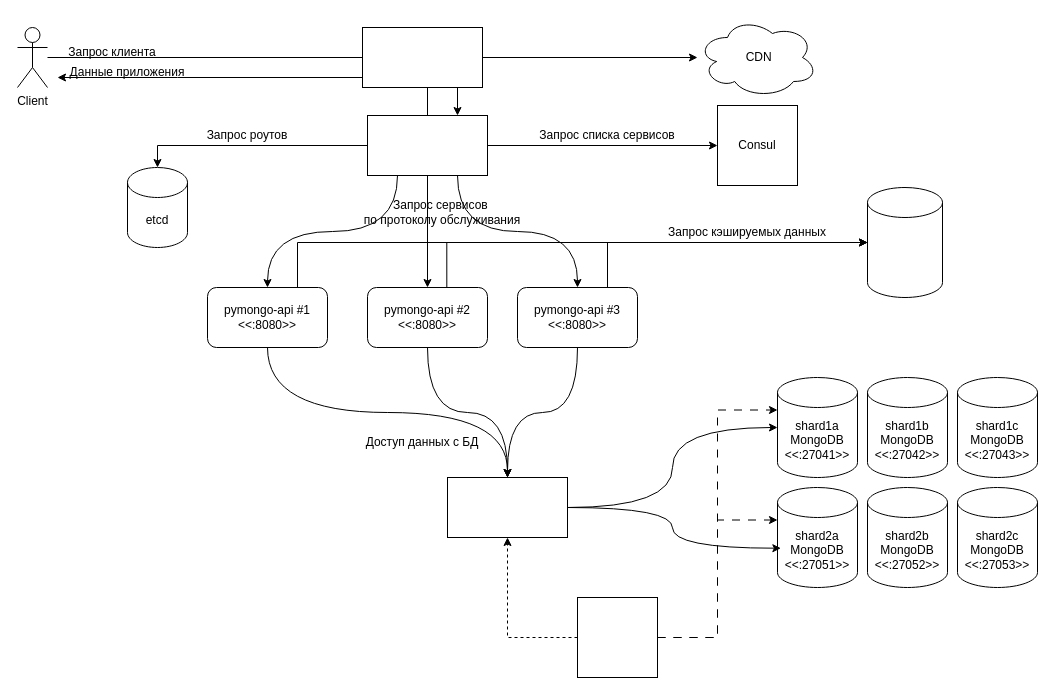
Image size: 1055x695. Some labels were removed from this diagram. Here are the shapes that lost their labels. From the top down, the centre of each, then its label:
(x=422, y=57): Nginx
(x=427, y=145): apisix
(x=904, y=242): redis <<:6379>>
(x=507, y=507): mongo_router <<:27020>>
(x=617, y=637): configSrv <<:27017>>
